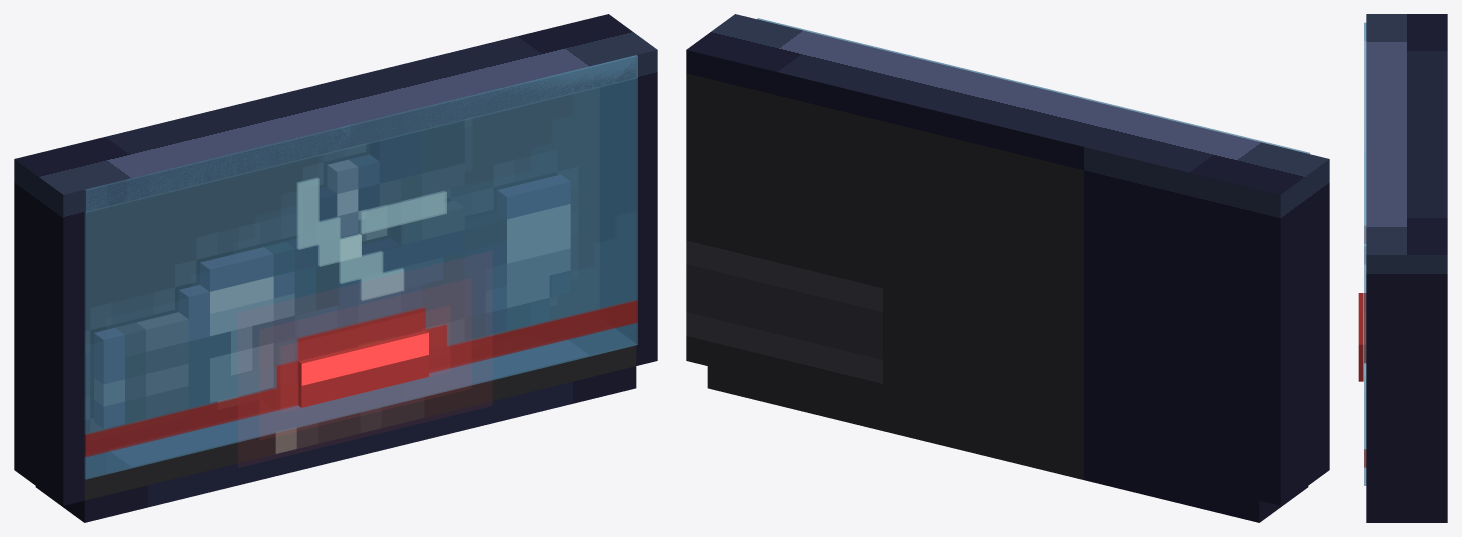
File: rescue_jaws_cabinet_damage_1.glb
3 renders of one model, left to right at view 1: azimuth 30°, elevation 25°; view 2: azimuth 150°, elevation 25°; view 3: azimuth 270°, elevation 25°, orthographic. The views are drawn at different scales.
Parts seen in each view (by area): view 1: Continuous_Cabinet_Shell, Closed_Thickness_Door_Glass, Removable_jaws, Lock_Overlay, Door_Handle; view 2: Continuous_Cabinet_Shell, Closed_Thickness_Door_Glass; view 3: Continuous_Cabinet_Shell, Closed_Thickness_Door_Glass, Door_Handle.
Part boxes in pixels (x1,y1,x2,y2): Continuous_Cabinet_Shell: (14,14,657,522); Closed_Thickness_Door_Glass: (84,55,637,479); Removable_jaws: (94,119,570,428); Lock_Overlay: (260,279,470,439); Door_Handle: (298,330,428,407); Continuous_Cabinet_Shell: (686,14,1329,522); Closed_Thickness_Door_Glass: (757,18,1309,153); Continuous_Cabinet_Shell: (1366,14,1447,522); Closed_Thickness_Door_Glass: (1364,22,1366,485); Door_Handle: (1358,293,1363,381).
Size of the model in its own units: 0.7875 by 0.4219 by 0.1238.
Materials: 5 (5 with a texture image).
